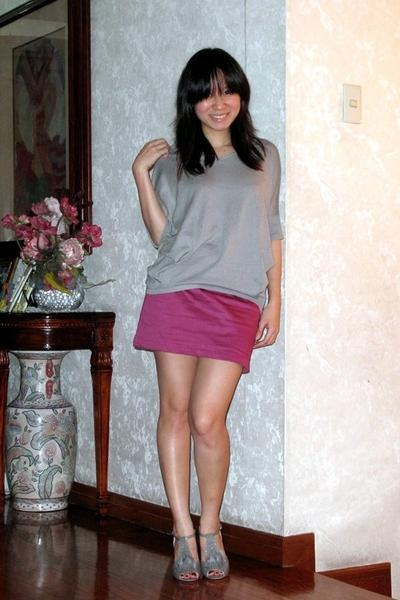shirt: (145, 132, 284, 311)
shoe: (175, 520, 228, 580)
skirt: (133, 288, 264, 371)
